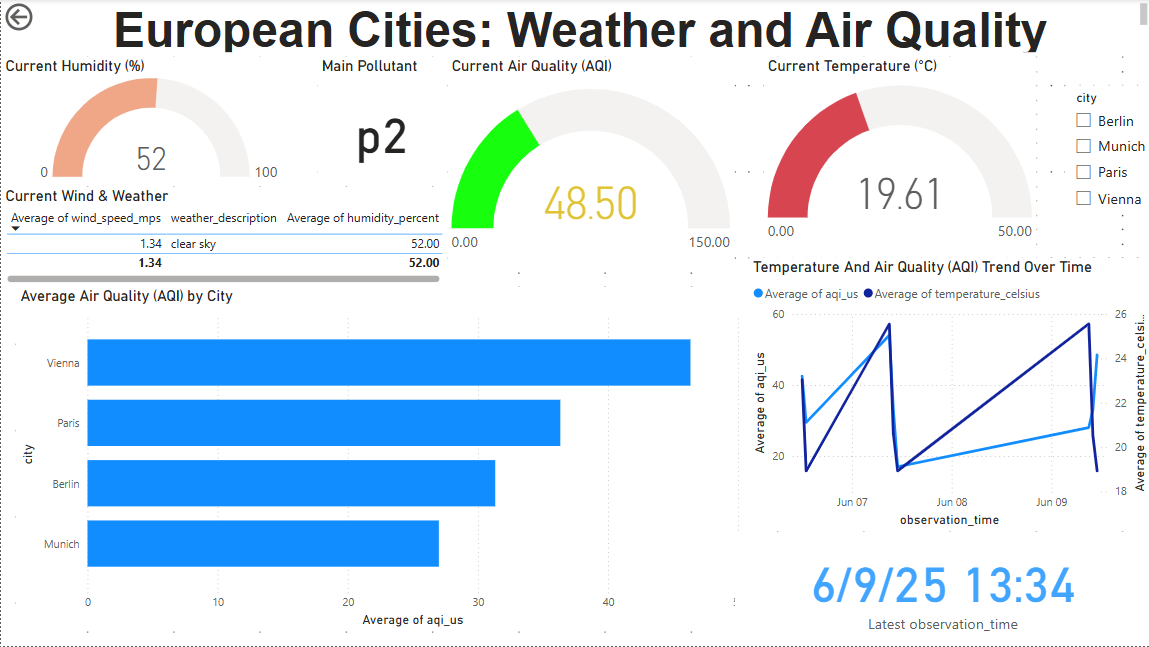

This screenshot's page, from the dashboard's own definition file:
{"tool":"powerbi","page":{"name":"Page 1","canvas":[1280,720],"ordinal":0},"visuals":[{"type":"textbox","box":[16,0,1264,64],"z":0},{"type":"slicer","fields":{"Values":["european_air_weather_db weather_observations.city"]},"box":[1184,96,96,144],"z":1000},{"type":"gauge","title":"Current Temperature (°C)","fields":{"Y":["Avg(european_air_weather_db weather_observations.temperature_celsius)"]},"box":[848,64,304,224],"z":2000},{"type":"gauge","title":"Current Air Quality (AQI)","fields":{"Y":["Avg(european_air_weather_db air_quality_observations.aqi_us)"]},"box":[496,64,320,240],"z":3000},{"type":"lineChart","title":"Temperature And  Air Quality (AQI) Trend Over Time","fields":{"Y":["Avg(european_air_weather_db air_quality_observations.aqi_us)"],"Category":["european_air_weather_db air_quality_observations.observation_time"],"Y2":["Avg(european_air_weather_db weather_observations.temperature_celsius)"]},"box":[832,288,448,304],"z":4000},{"type":"barChart","title":"Average Air Quality (AQI) by City","fields":{"Category":["european_air_weather_db air_quality_observations.city"],"Y":["Avg(european_air_weather_db air_quality_observations.aqi_us)"]},"box":[16,320,816,384],"z":5000},{"type":"tableEx","title":"Current Wind & Weather","fields":{"Values":["Avg(european_air_weather_db weather_observations.wind_speed_mps)","european_air_weather_db weather_observations.weather_description","Avg(european_air_weather_db weather_observations.humidity_percent)"]},"box":[0,208,496,112],"z":6000},{"type":"actionButton","box":[0,0,100,40],"z":7000},{"type":"card","title":"Main Pollutant","fields":{"Values":["Min(european_air_weather_db air_quality_observations.main_pollutant_us)"]},"box":[352,64,144,144],"z":8000},{"type":"gauge","title":"Current Humidity (%)","fields":{"Y":["Sum(european_air_weather_db weather_observations.humidity_percent)"]},"box":[0,64,352,144],"z":9000},{"type":"card","fields":{"Values":["Max(european_air_weather_db weather_observations.observation_time)"]},"box":[816,592,464,128],"z":10000}]}

Visuals, with their boxes in screenshot pixels (x1, y1, x2, y2), scaled from the page's 1280x720 canvas onto the 1149x647 screenshot:
textbox: bbox=(14, 0, 1148, 58)
slicer - european_air_weather_db weather_observations.city: bbox=(1063, 86, 1148, 216)
"Current Temperature (°C)" gauge: bbox=(761, 58, 1034, 259)
"Current Air Quality (AQI)" gauge: bbox=(445, 58, 732, 273)
"Temperature And  Air Quality (AQI) Trend Over Time" lineChart: bbox=(747, 259, 1148, 532)
"Average Air Quality (AQI) by City" barChart: bbox=(14, 288, 747, 633)
"Current Wind & Weather" tableEx: bbox=(0, 187, 445, 288)
actionButton: bbox=(0, 0, 90, 36)
"Main Pollutant" card: bbox=(316, 58, 445, 187)
"Current Humidity (%)" gauge: bbox=(0, 58, 316, 187)
card - Max(european_air_weather_db weather_observations.observation_time): bbox=(732, 532, 1148, 646)
